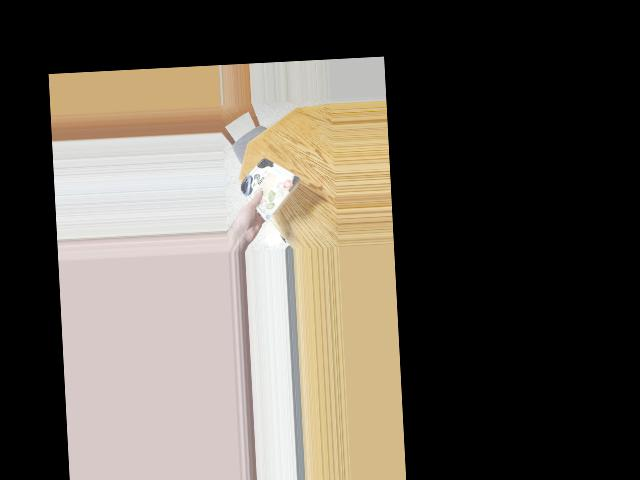cheese: (247, 158, 292, 216)
